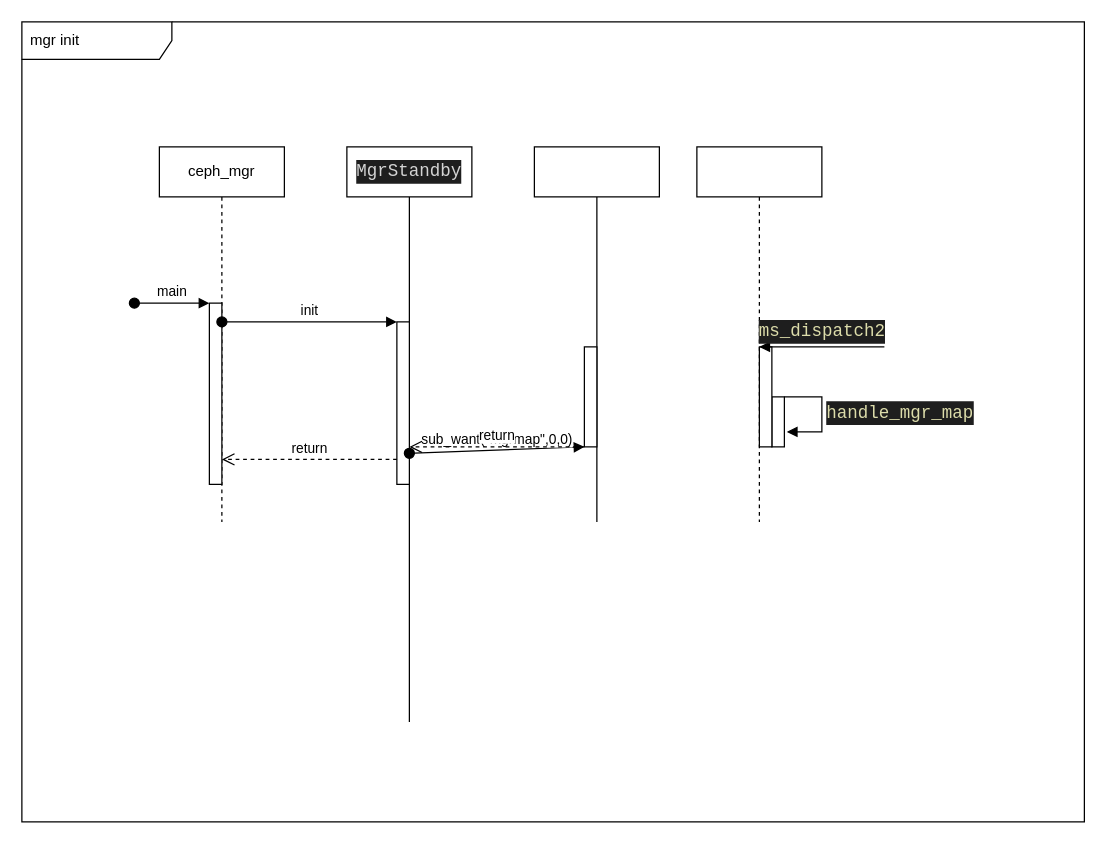
This 1106x844 diagram has some shape labels left out. The shapes that lost their labels are listed below. From the top down, each one's box as (x1, y1, x2, y2) in pixels, then its label:
(533, 146, 659, 522): MonClient
(696, 146, 822, 522): MgrClient
